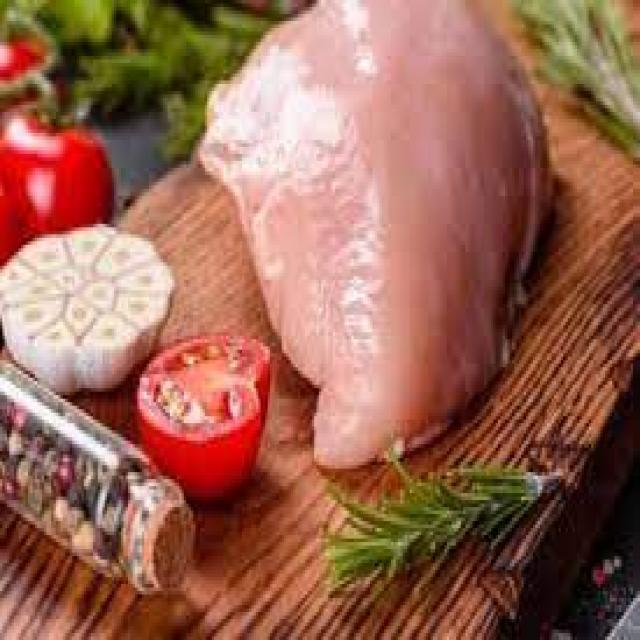chicken: (191, 0, 559, 468)
